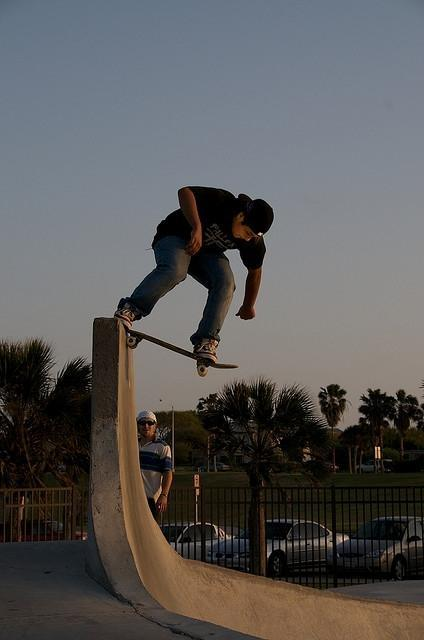car: (207, 516, 345, 570), (329, 514, 424, 580), (160, 521, 232, 563), (2, 521, 87, 543), (200, 462, 232, 472), (356, 460, 376, 473)
